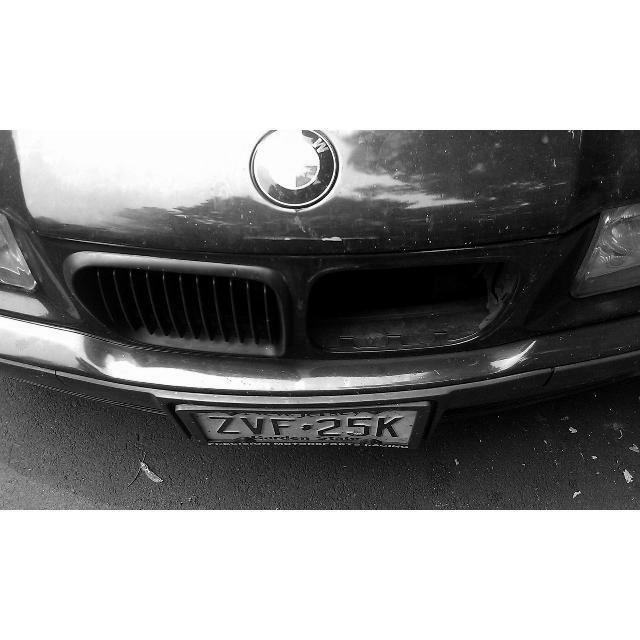bonnet-dent: (17, 130, 579, 262)
